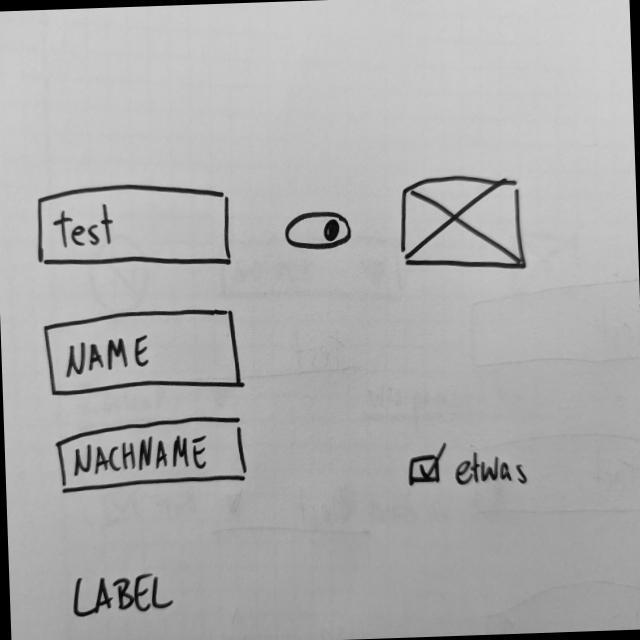checkbox: (405, 436, 535, 493)
image: (396, 173, 531, 274)
input: (35, 179, 235, 278), (43, 304, 245, 400), (55, 412, 249, 496)
label: (66, 571, 178, 623)
toggle: (283, 208, 356, 256)
